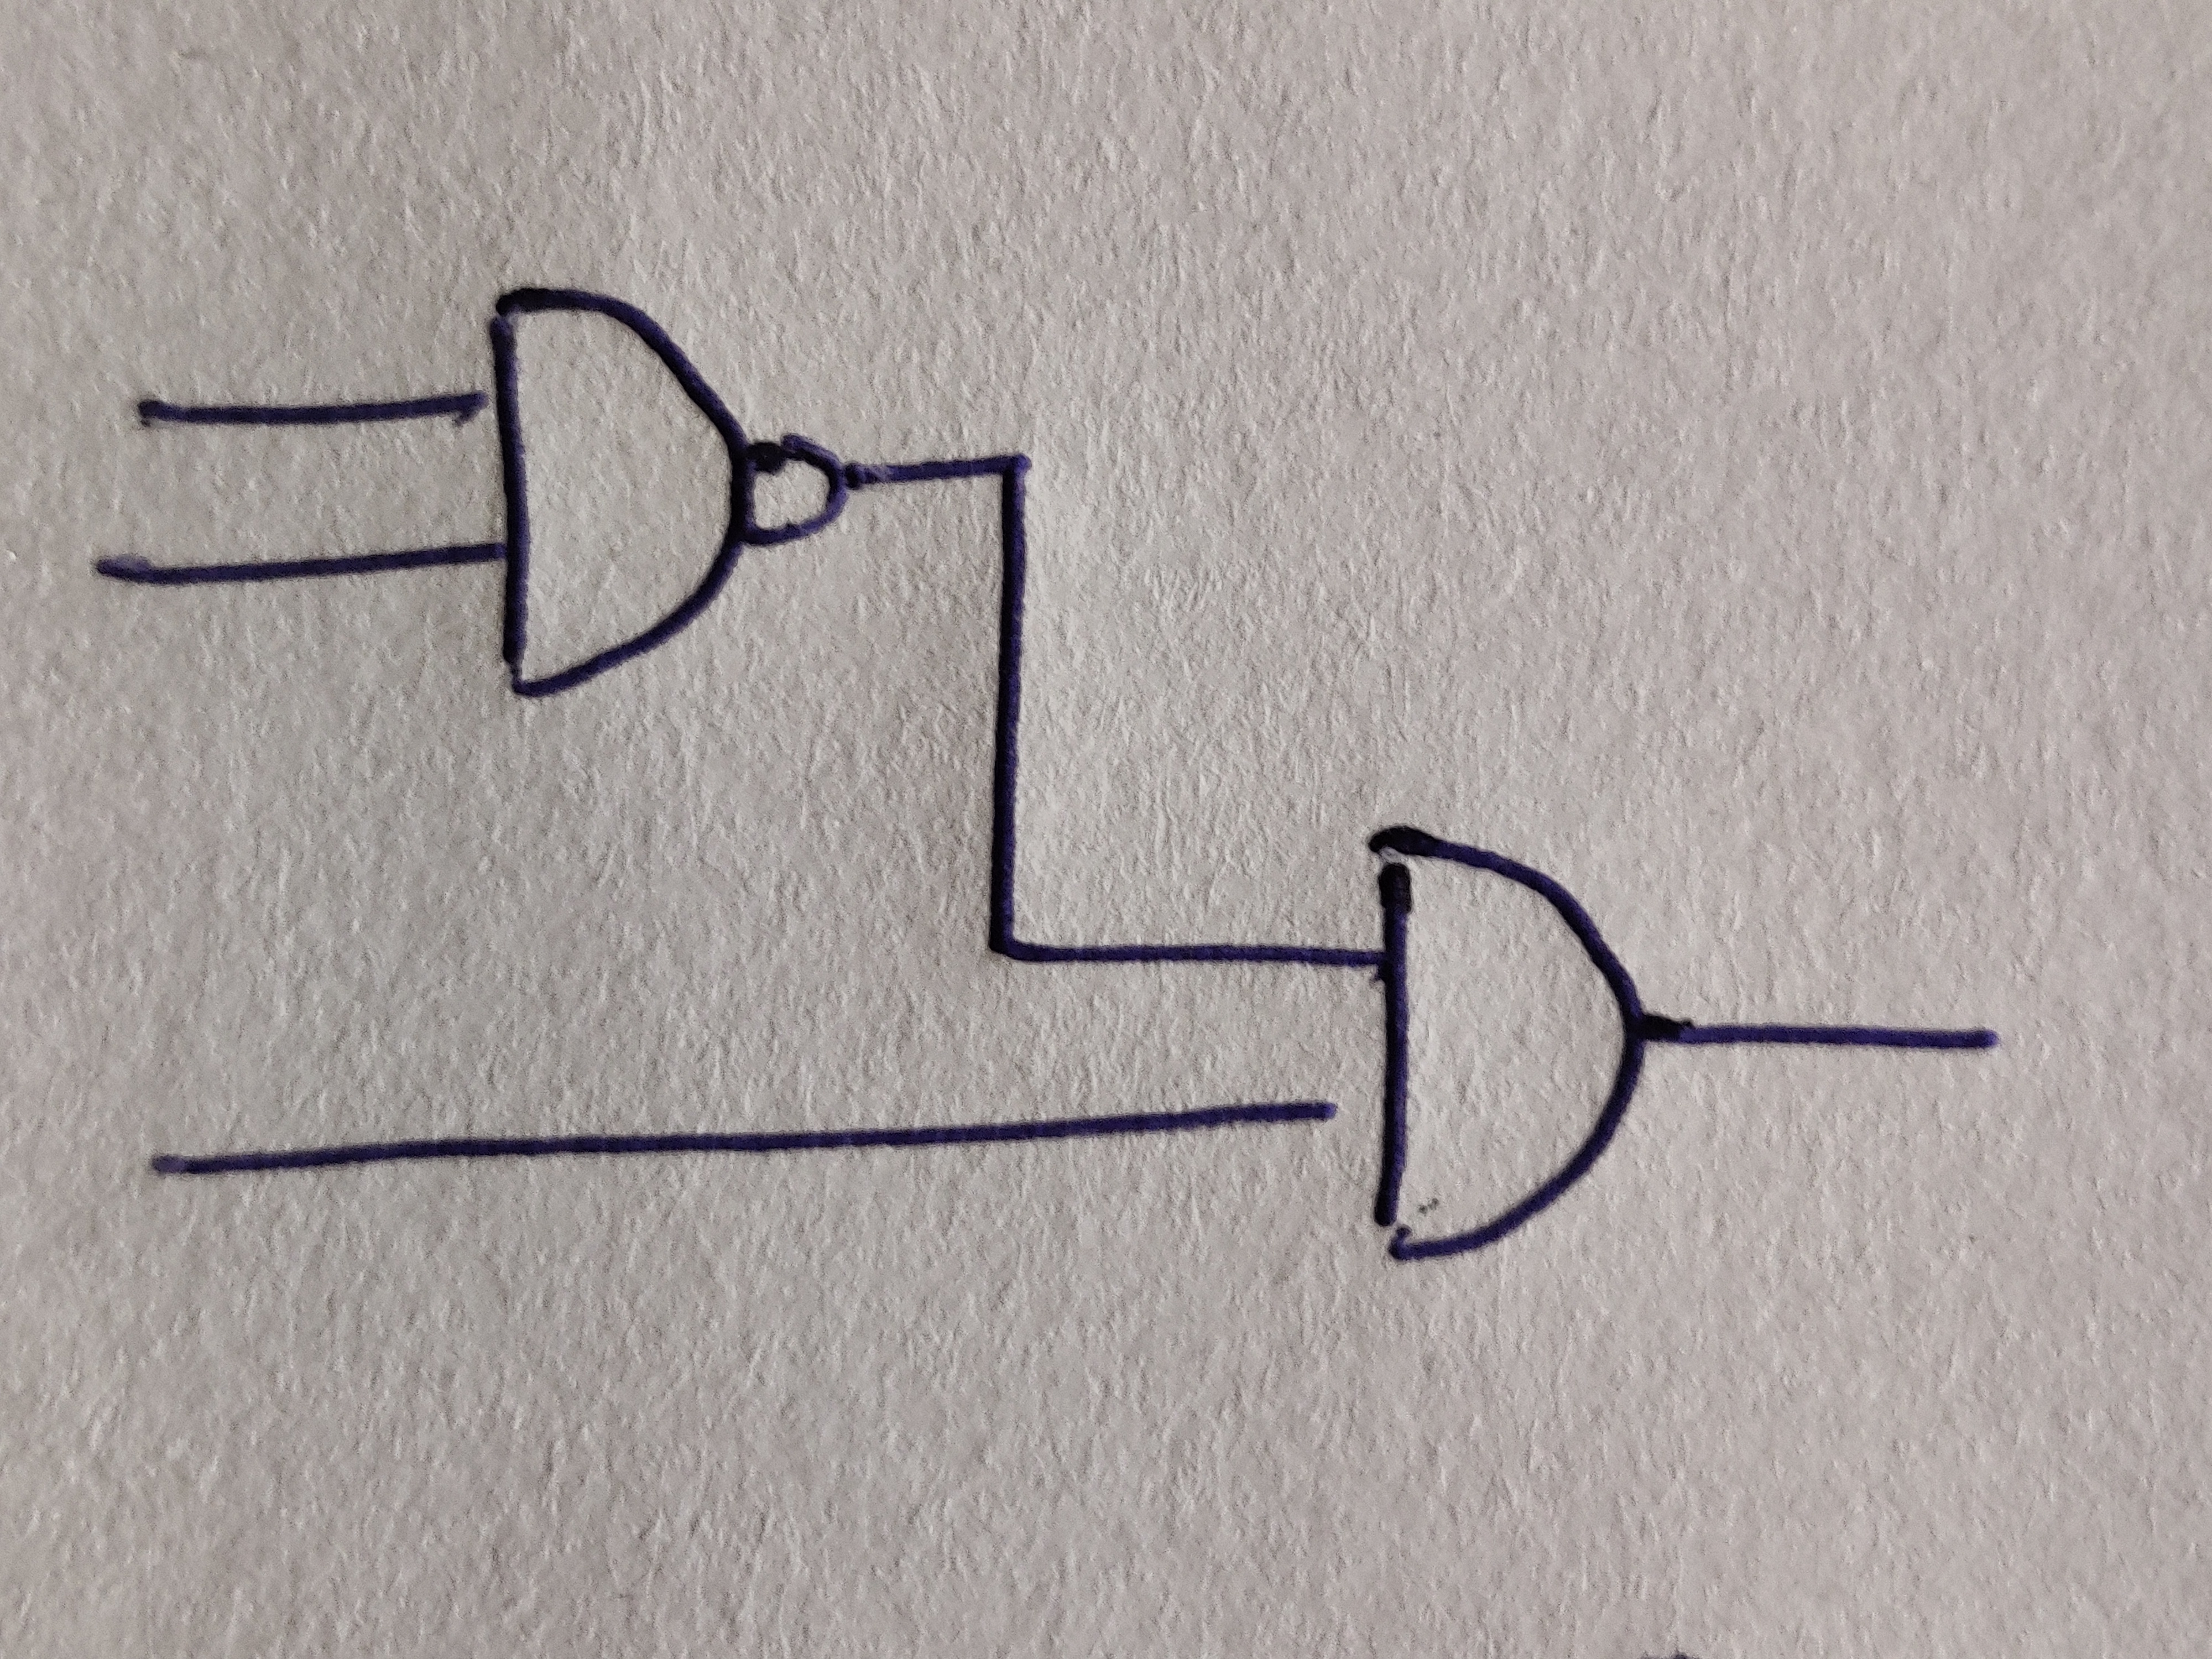and: (1369, 824, 1644, 1260), (493, 289, 751, 701)
not: (740, 437, 848, 547)
